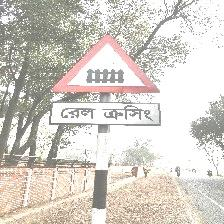Rail-crossing: (49, 35, 163, 128)
